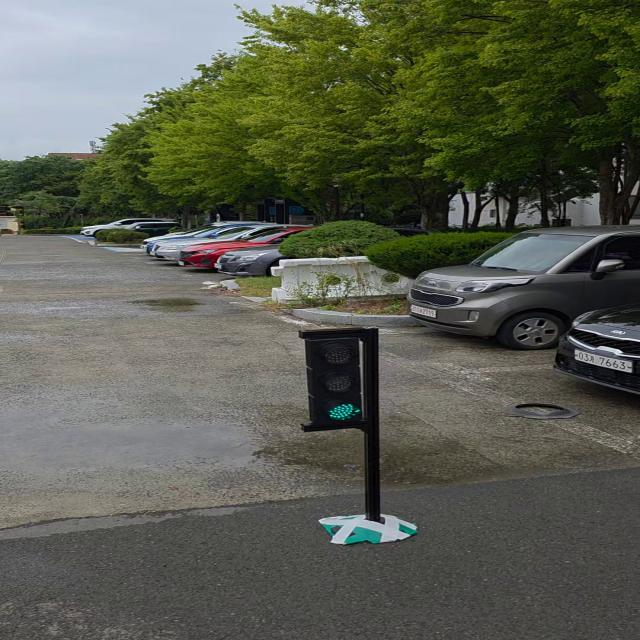green: (310, 334, 380, 428)
